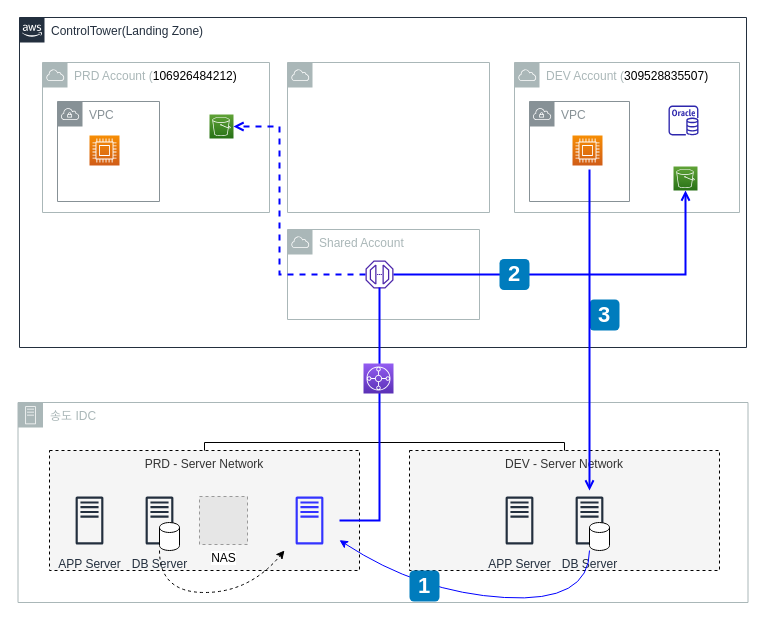
This 765x620 diagram has some shape labels left out. Grey dashed boxes stand in for pictures. The shapes that lost their labels are listed below. From the top down, each one's centre as x and y in pixels, then its label:
At pixel 221 126: "s3-prd-db-dumpfile (운영용 구성예정)".
At pixel 388 137: "STG Account ( 665771280941)".
At pixel 683 120: "AWS RDS".
At pixel 104 150: "CDC Replicate Server (운영용 구성예정)".
At pixel 587 150: "CDC Replicate Server (10.91.31.254)".
At pixel 685 178: "s3-dev-db-dumpfile".
At pixel 379 274: "s3.endpoint".
At pixel 309 520: "aplorapump (10.129.20.77)".
